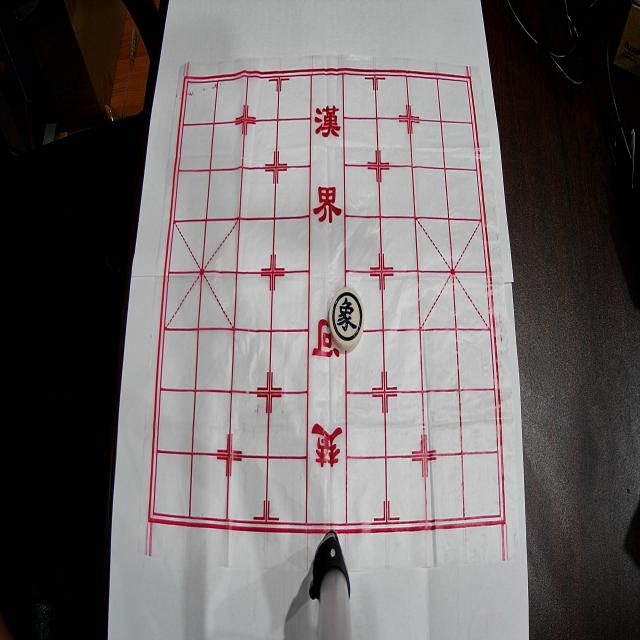black-elephant: (329, 288, 365, 350)
